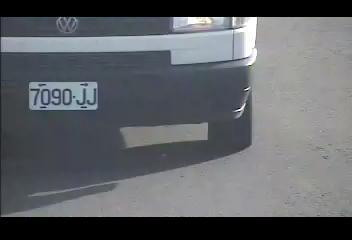plate: (26, 79, 99, 111)
